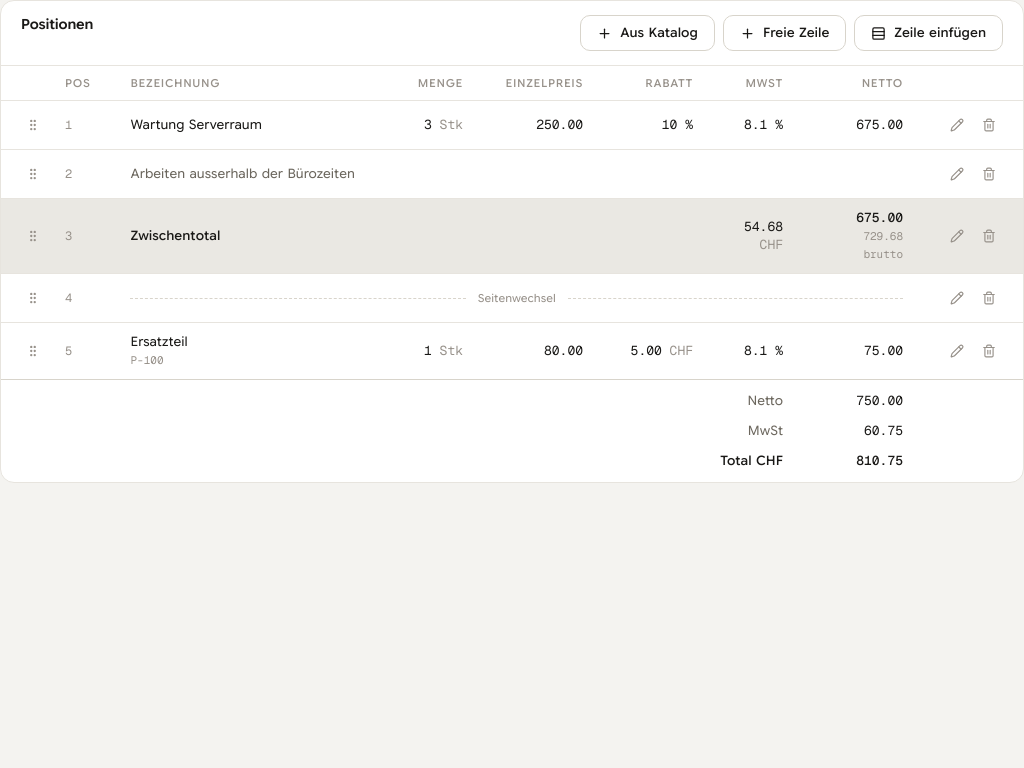
Test: DocumentLines › documentLinesEditsACatalogueLineTest
Click the button named "Position 5 bearbeiten": [957, 351] box [943,337,971,365]
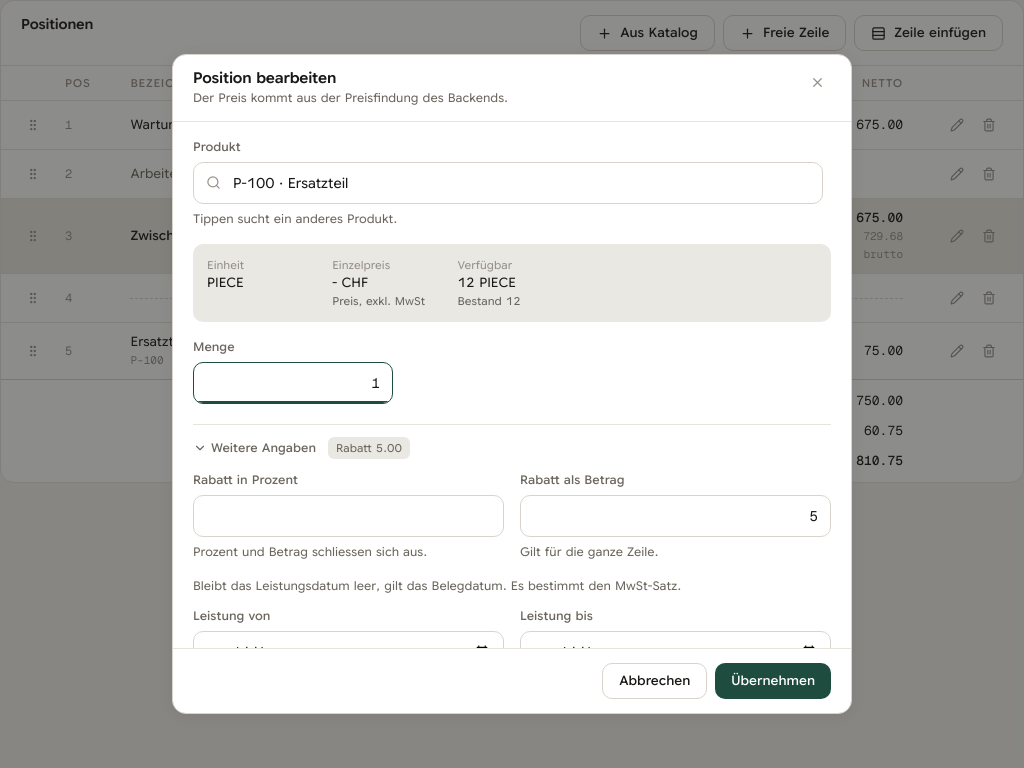
Now the text "Position bearbeiten" is shown, box [193,69,336,87]
